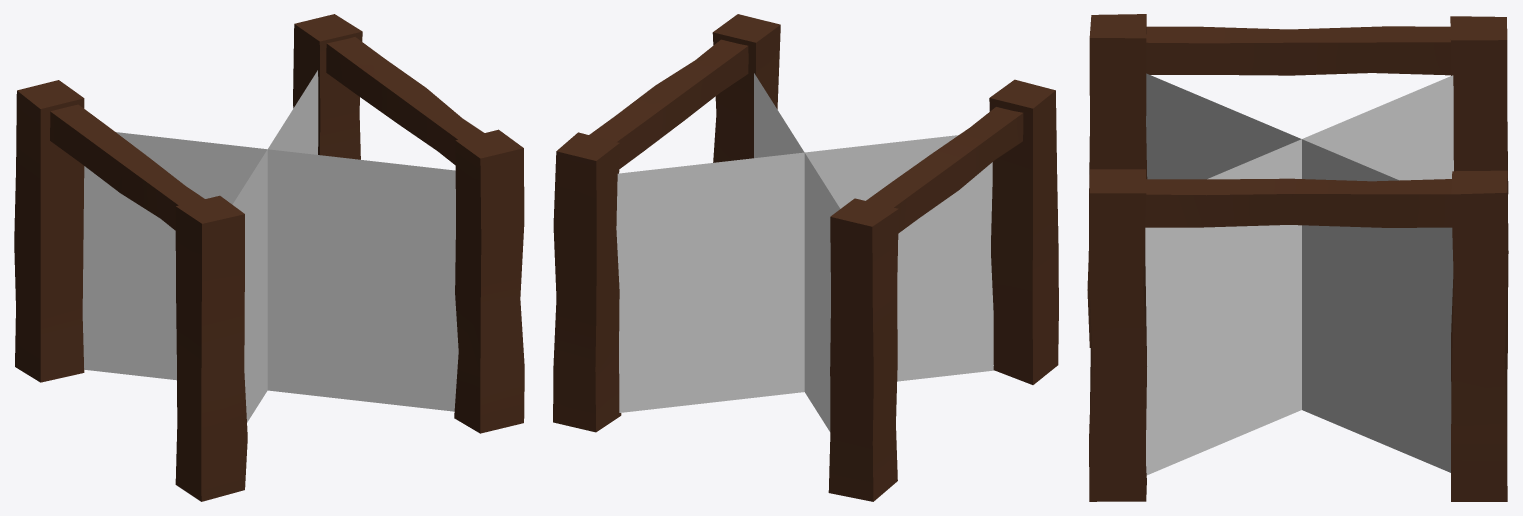
The model's file is web.fbx.
3 renders of one model, left to right at view 1: azimuth 30°, elevation 25°; view 2: azimuth 150°, elevation 25°; view 3: azimuth 270°, elevation 25°, orthographic. The views are drawn at different scales.
Parts seen in each view (by area): view 1: web.000, web.001; view 2: web.000, web.001; view 3: web.001, web.000.
Part boxes in pixels (x1=…): web.000: x1=14, y1=14, x2=524, y2=501; web.001: x1=82, y1=70, x2=458, y2=422; web.000: x1=553, y1=14, x2=1058, y2=501; web.001: x1=616, y1=73, x2=994, y2=431; web.001: x1=1145, y1=73, x2=1453, y2=475; web.000: x1=1087, y1=14, x2=1508, y2=501.
Size of the model in its own units: 678 by 560 by 680.
